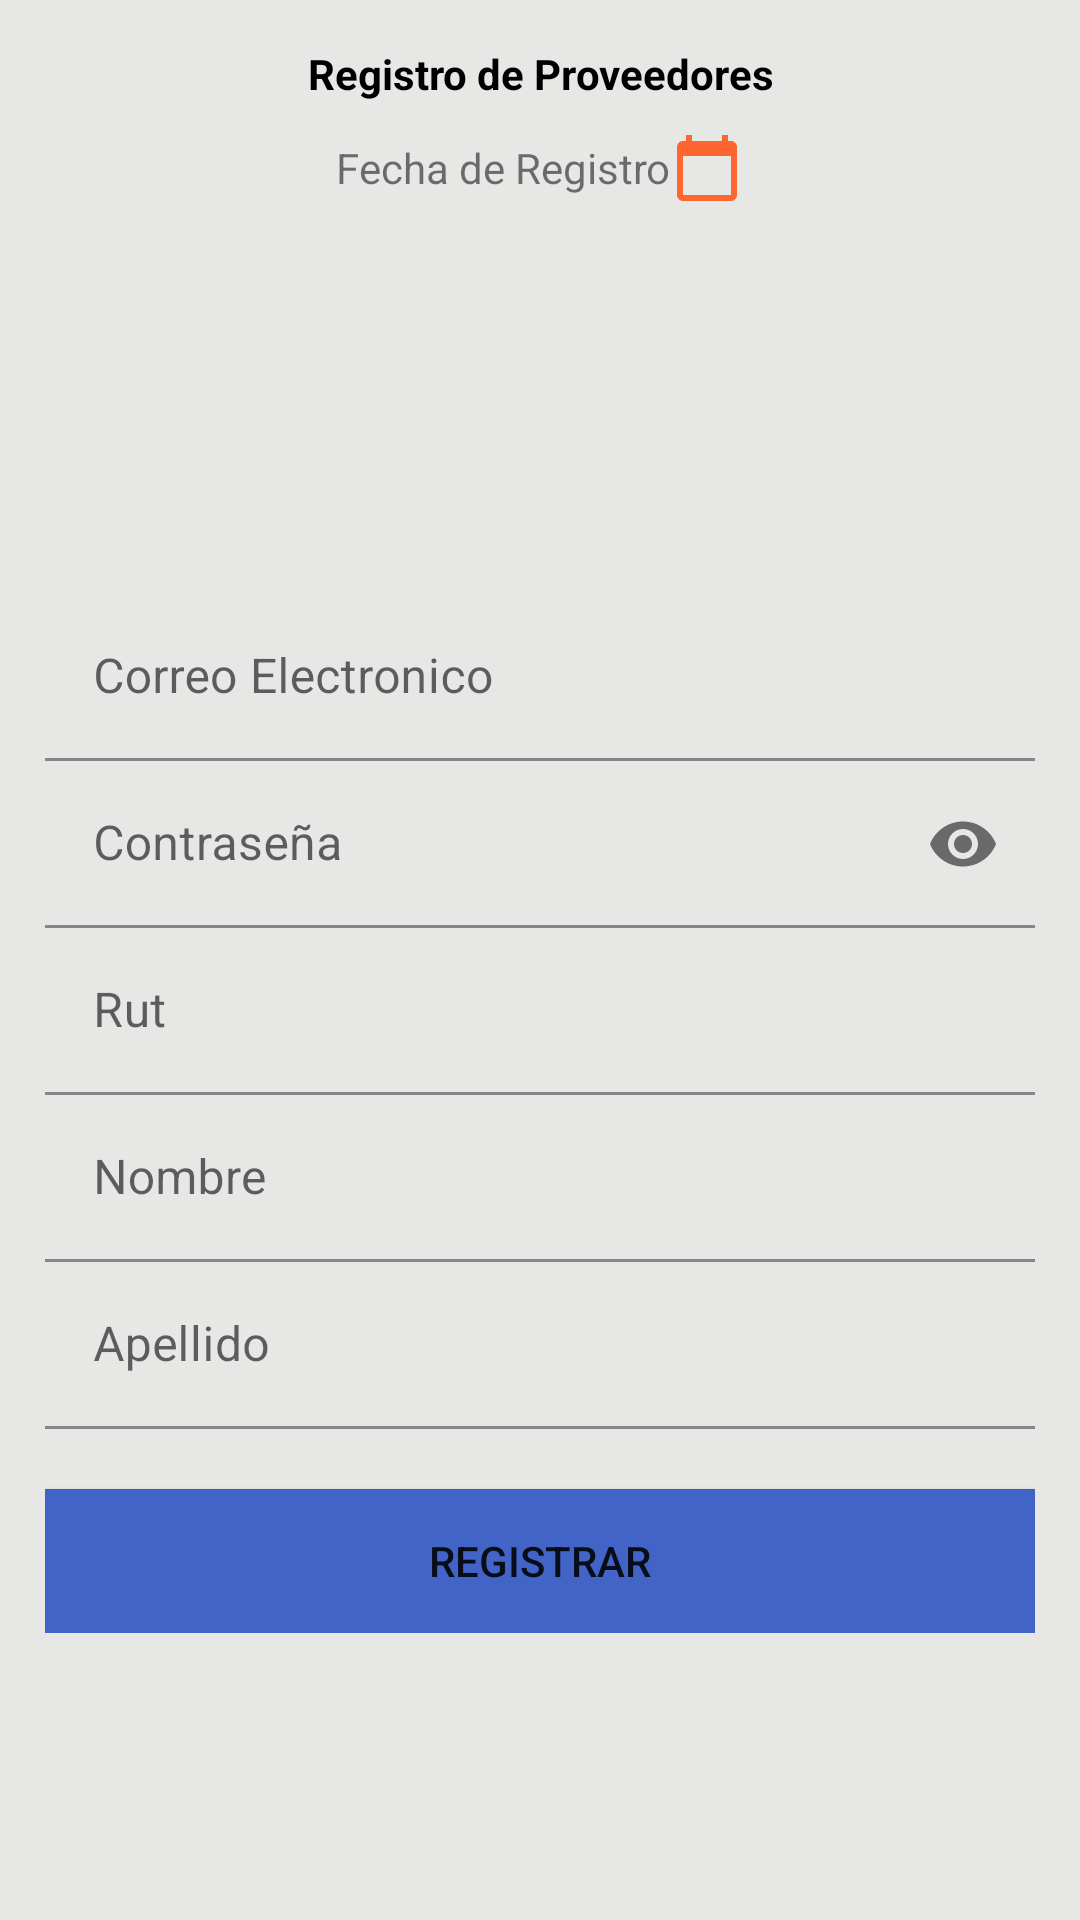

Where to tap for icons on this 1080w x 1920h app screen, as point (x, y):
calendario: point (707, 168)
